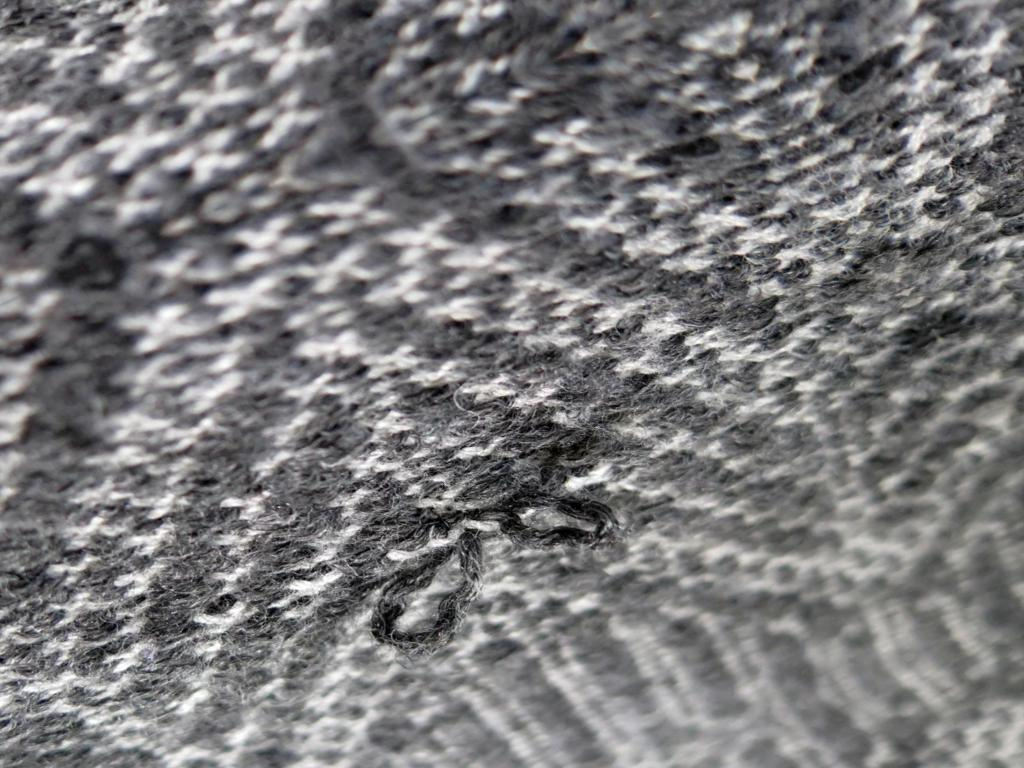snag: (361, 520, 487, 663), (496, 472, 629, 561)
